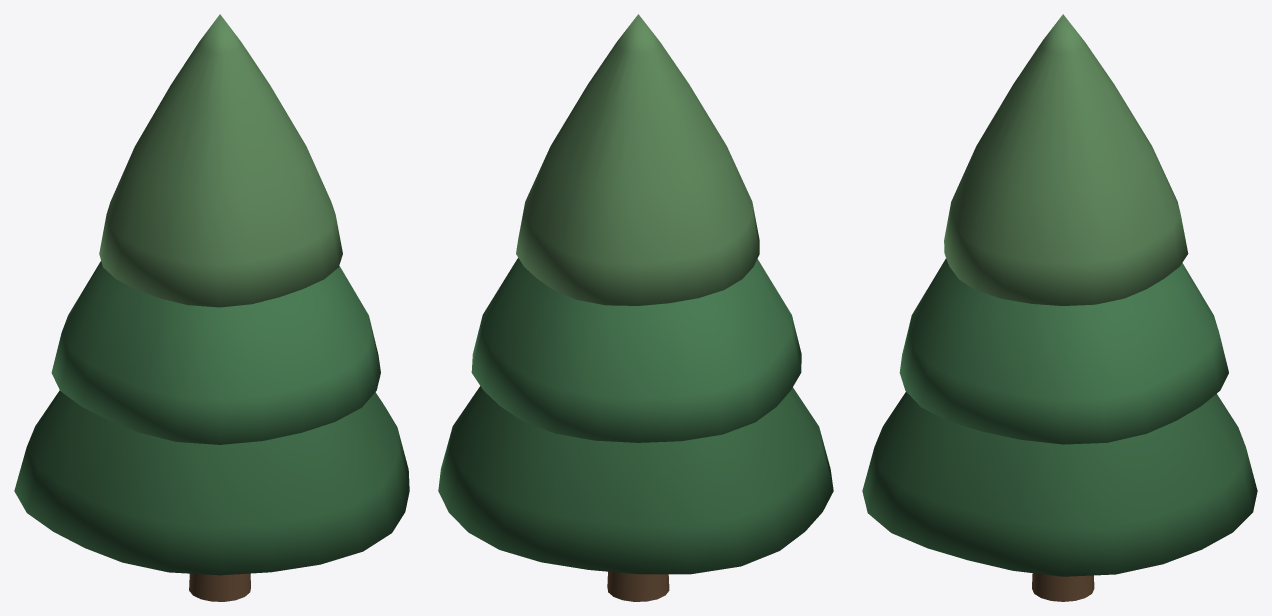
Rendered from pine.glb.
3 views of the same model, side by side, from view 1: azimuth 30°, elevation 25°; view 2: azimuth 150°, elevation 25°; view 3: azimuth 270°, elevation 25° (orthographic).
Visible parts, largest first — view 1: pine; view 2: pine; view 3: pine.
Part boxes in pixels (x1,y1,x2,y2): pine: (14,14,409,601); pine: (438,14,833,601); pine: (862,14,1257,601).
Size of the model in its own units: 2.4 by 3.85 by 2.4.
